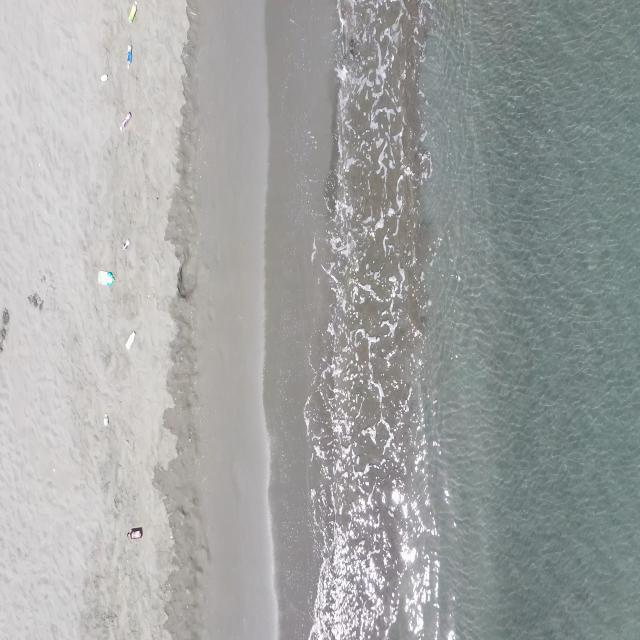Garbage: (98, 270, 114, 286), (27, 292, 43, 307), (120, 111, 131, 129), (124, 331, 135, 347), (128, 0, 136, 22), (128, 527, 141, 537), (128, 44, 131, 65), (121, 240, 128, 248), (104, 412, 108, 426), (101, 74, 107, 80)
